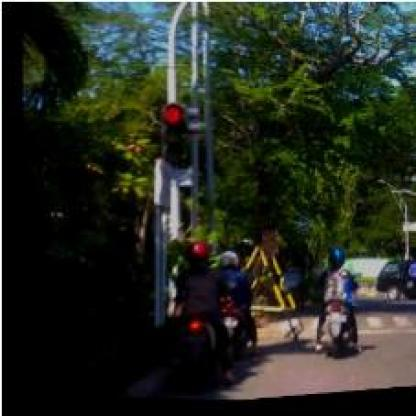red: (150, 102, 187, 168)
